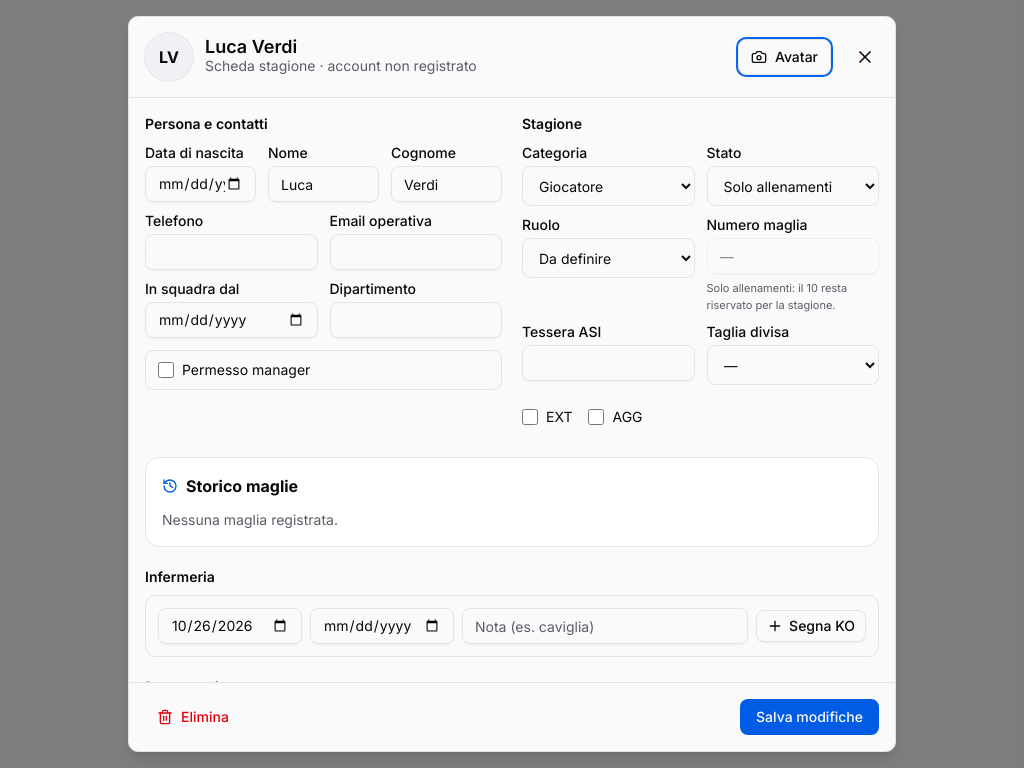
Test: PersonDrawer › blocca il numero di chi fa solo allenamenti e lo sblocca tornando in rosa
The width and height of the screenshot is (1024, 768).
Expected: the field labelled "Numero maglia" is disabled, [706,238,879,274]
Expected: the field labelled "Numero maglia" holds "—", [706,238,879,274]
Select "In rosa" in the dropdown labelled "Stato": [793, 186] box [706,166,879,206]
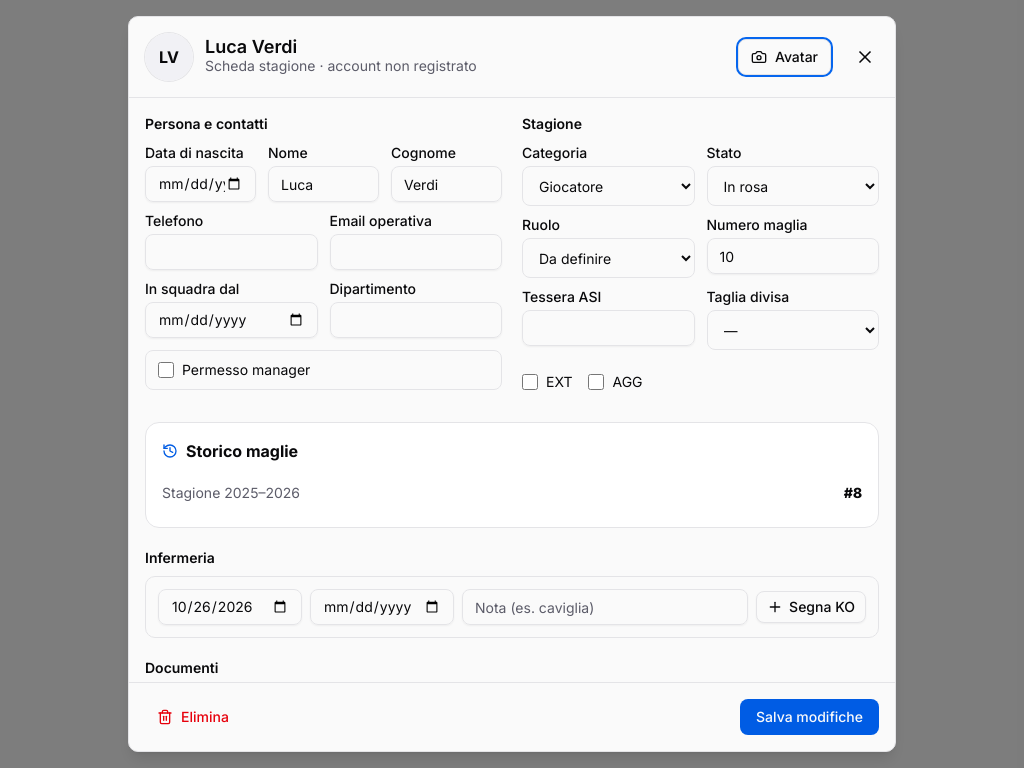
Now the number field labelled "Numero maglia" is enabled, box [706,238,879,274]
Now the number field labelled "Numero maglia" holds "10", box [706,238,879,274]
